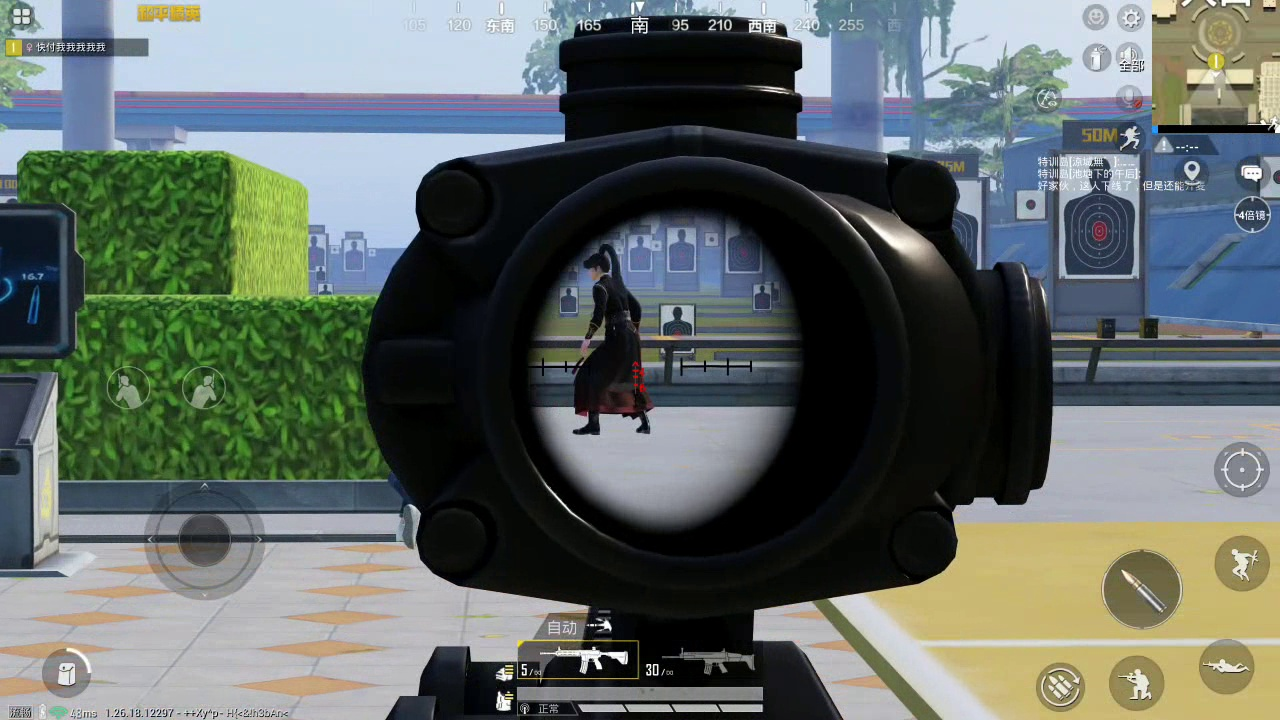enemy: (579, 246, 654, 433)
